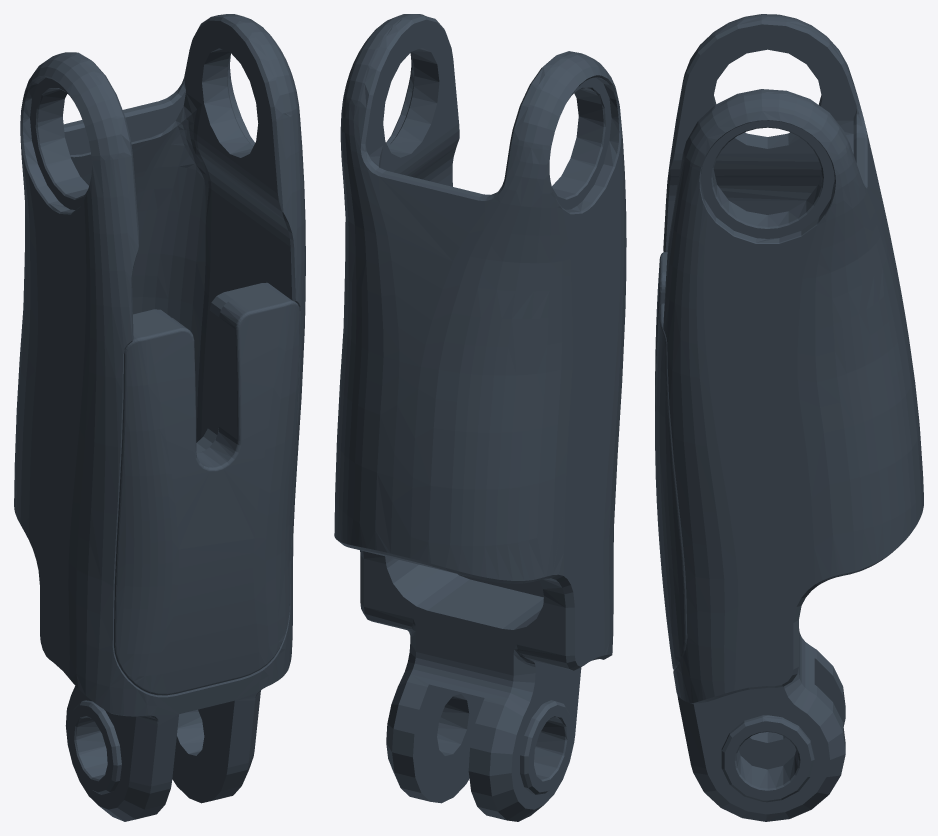
File: rf_mcp_pitch_link.glb
The picture shows the model from 3 angles, left to right: view 1: azimuth 30°, elevation 25°; view 2: azimuth 150°, elevation 25°; view 3: azimuth 270°, elevation 25°; orthographic projection. The views are drawn at different scales.
Visible parts, largest first — view 1: rf_mcp_pitch; view 2: rf_mcp_pitch; view 3: rf_mcp_pitch.
Boxes of the visible parts, left/top/right/bottom form: rf_mcp_pitch: left=14, top=14, right=305, bottom=821; rf_mcp_pitch: left=334, top=14, right=626, bottom=821; rf_mcp_pitch: left=655, top=14, right=923, bottom=821.
Size of the model in its own units: 0.0154 by 0.0525 by 0.0172.
